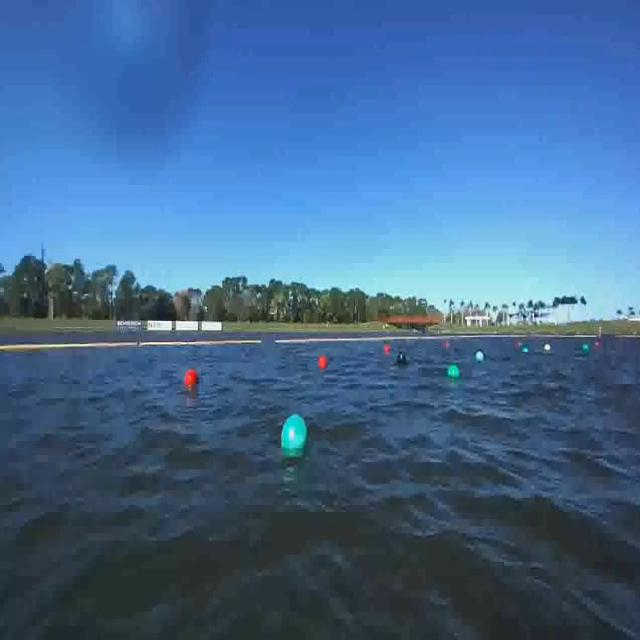black-buoy: (396, 353, 407, 366)
green-buoy: (280, 414, 308, 455), (446, 364, 458, 378)
red-buoy: (184, 368, 199, 386), (318, 355, 328, 369), (385, 346, 391, 354)
